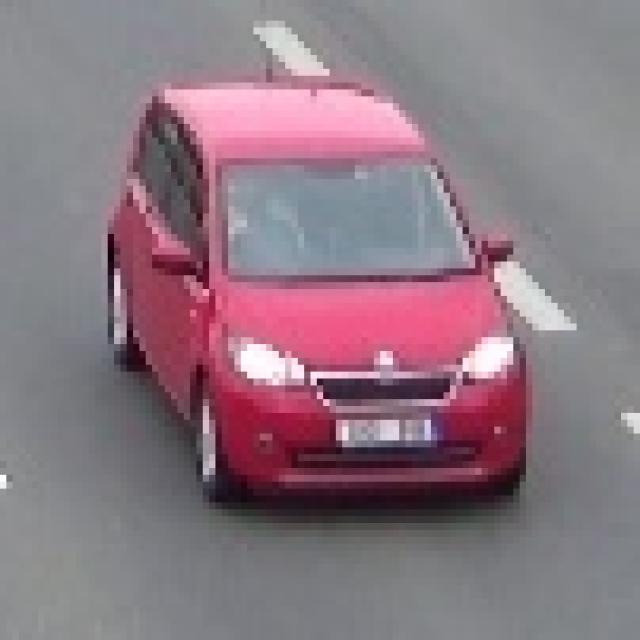red: (112, 84, 538, 517)
